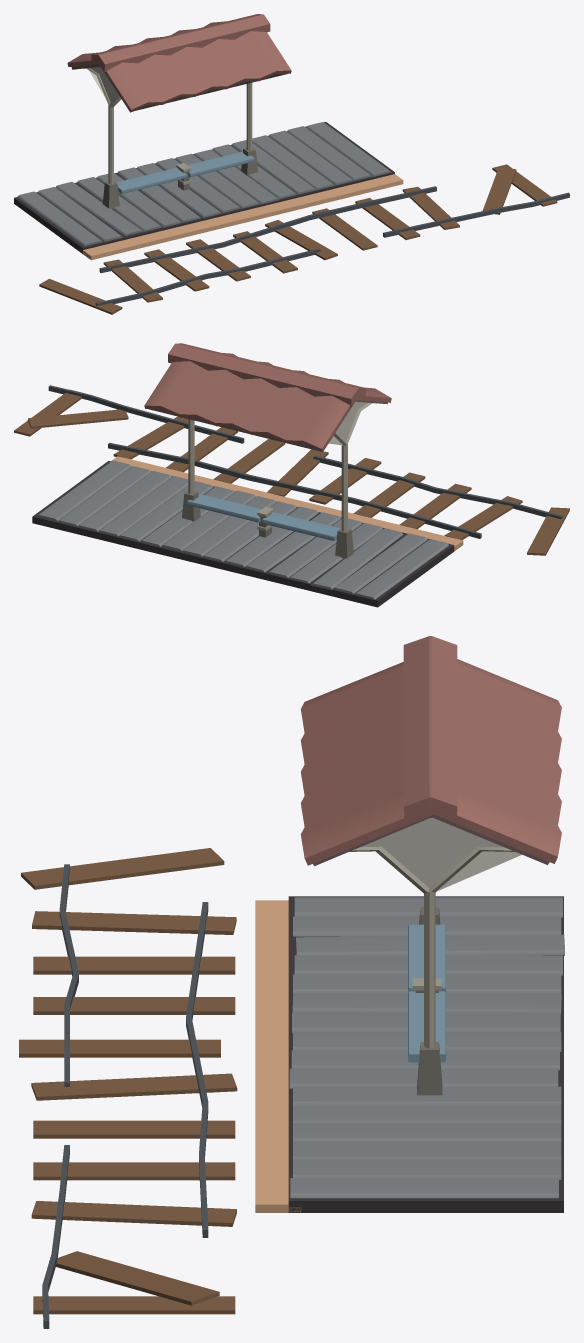
File: kisaragi_station.fbx
The picture shows the model from 3 angles, top to bottom: view 1: azimuth 30°, elevation 25°; view 2: azimuth 150°, elevation 25°; view 3: azimuth 270°, elevation 25°; orthographic projection. The views are drawn at different scales.
Visible parts, largest first — view 1: station_floor, station1, tracks_long; view 2: station_floor, station1, tracks_long; view 3: station_floor, station1, tracks_long.
Boxes of the visible parts, box(x1,y1,x2,y2) form: station_floor: box(14, 122, 403, 260); station1: box(67, 14, 291, 208); tracks_long: box(39, 164, 569, 314); station_floor: box(32, 456, 463, 607); station1: box(144, 343, 391, 558); tracks_long: box(14, 385, 569, 555); station_floor: box(255, 896, 564, 1212); station1: box(300, 636, 561, 1095); tracks_long: box(19, 848, 237, 1328).
Bounding box in the file's own units: 2348 × 757 × 1136.
